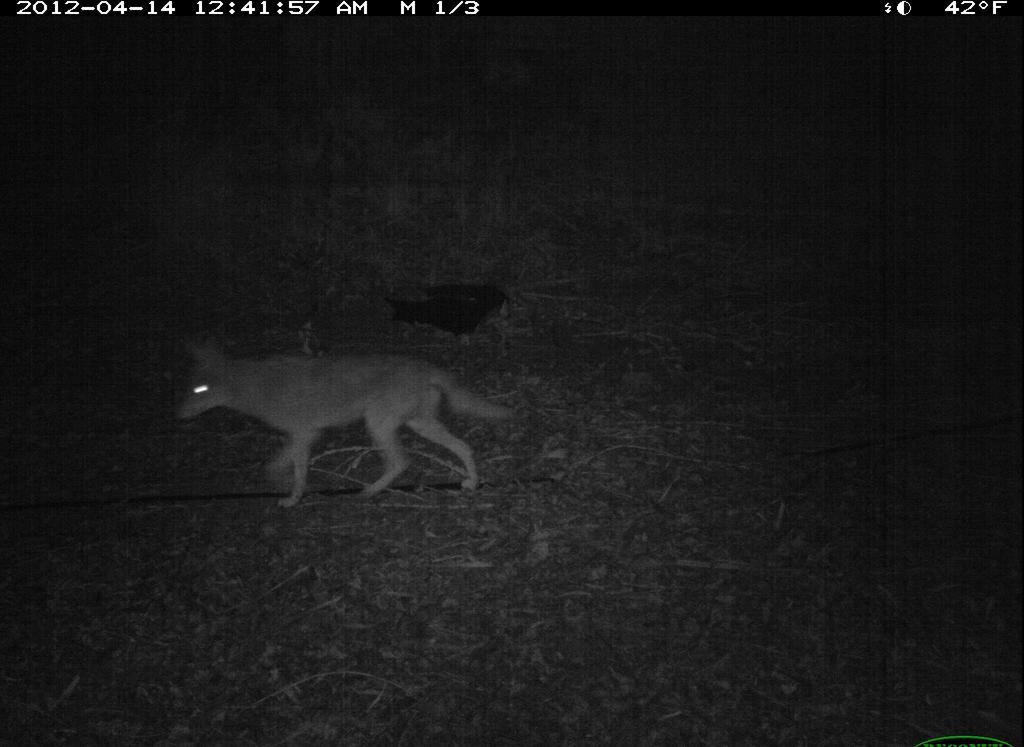coyote: (177, 331, 513, 514)
